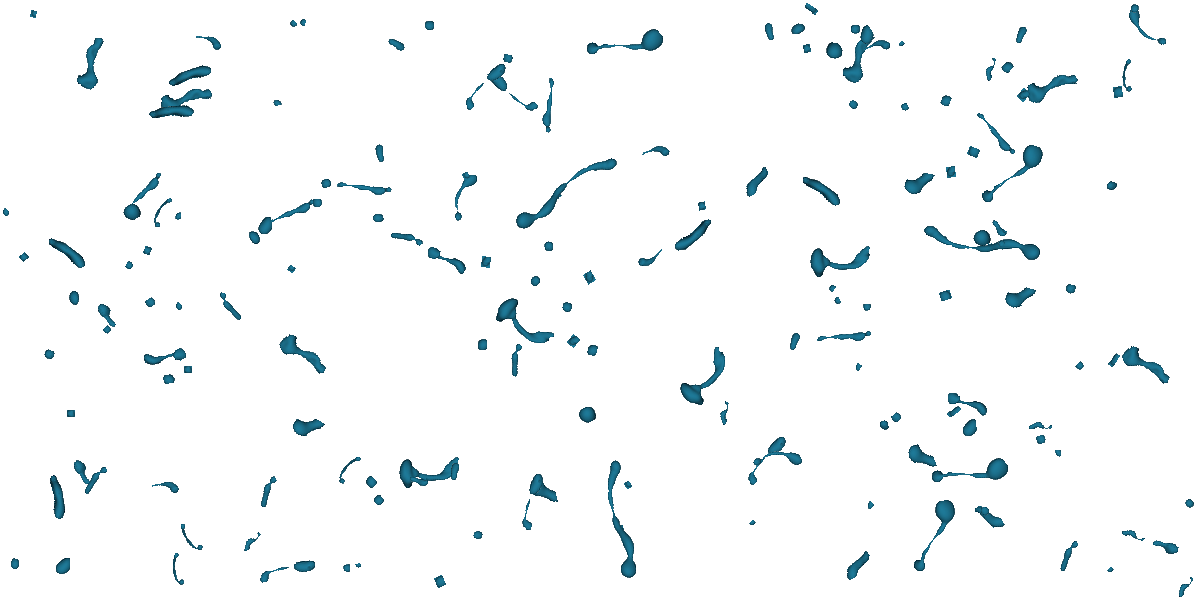Detached ligament: (508, 137, 621, 248), (584, 458, 658, 584), (581, 4, 668, 87), (926, 433, 1013, 515), (978, 134, 1047, 218), (388, 432, 466, 506), (799, 221, 877, 295), (923, 223, 1044, 264), (907, 499, 962, 575), (676, 342, 729, 412), (489, 294, 559, 347), (1020, 61, 1081, 113), (154, 75, 215, 125), (272, 330, 333, 378), (1115, 342, 1176, 388), (746, 438, 804, 485), (459, 60, 509, 113), (1121, 6, 1179, 51), (969, 109, 1021, 159), (486, 70, 541, 117), (742, 433, 789, 488), (120, 167, 166, 222), (262, 193, 319, 235), (147, 89, 196, 136), (840, 29, 878, 88), (34, 473, 80, 521), (140, 336, 188, 377), (167, 55, 213, 97), (801, 168, 842, 213), (47, 230, 87, 275), (76, 36, 107, 93), (256, 557, 317, 584), (518, 472, 545, 533), (496, 342, 536, 381), (386, 218, 425, 258), (450, 174, 480, 226), (814, 325, 874, 350), (248, 474, 287, 512), (288, 409, 327, 446), (1049, 539, 1087, 575), (425, 246, 470, 276), (973, 499, 1007, 537), (904, 439, 938, 476), (737, 166, 775, 199), (674, 219, 713, 251), (838, 550, 876, 582), (173, 520, 205, 557), (332, 450, 364, 486), (1002, 282, 1038, 314), (77, 465, 112, 497), (527, 474, 559, 509), (147, 192, 175, 230), (947, 392, 989, 417), (193, 26, 225, 58), (66, 458, 99, 489), (902, 169, 936, 199), (91, 302, 124, 331), (150, 473, 182, 502), (335, 181, 393, 196), (541, 76, 556, 134), (217, 292, 245, 323), (641, 140, 672, 165), (1150, 534, 1180, 558), (635, 246, 665, 269), (167, 550, 185, 588), (863, 36, 892, 58), (442, 458, 467, 483), (782, 328, 807, 353), (367, 140, 392, 165), (1172, 575, 1198, 599), (1120, 523, 1146, 547), (979, 56, 1002, 83), (238, 530, 265, 553), (757, 19, 781, 43), (1009, 22, 1033, 46), (714, 400, 735, 427), (386, 33, 409, 56), (1119, 57, 1133, 93), (987, 218, 1011, 239), (1027, 417, 1053, 435), (408, 474, 430, 488), (946, 404, 962, 419), (1107, 352, 1121, 368), (803, 2, 819, 16)
drop: (969, 225, 994, 250), (119, 199, 144, 224), (575, 402, 599, 426), (854, 23, 877, 47), (824, 41, 845, 62), (255, 215, 274, 236), (960, 418, 978, 437), (54, 556, 71, 575), (66, 288, 83, 307), (363, 474, 379, 490), (1000, 59, 1015, 75), (566, 333, 581, 349), (1016, 87, 1031, 103), (372, 493, 387, 509), (582, 270, 597, 285), (528, 273, 543, 288), (939, 93, 953, 108), (966, 145, 981, 159), (433, 574, 447, 589), (248, 230, 261, 246), (938, 289, 953, 302), (1105, 180, 1120, 193), (586, 343, 599, 357), (42, 348, 56, 361), (791, 23, 806, 35), (1074, 360, 1087, 373), (101, 324, 114, 337), (890, 411, 903, 424), (144, 296, 157, 309), (1183, 497, 1196, 510), (847, 98, 860, 111), (162, 373, 176, 385), (480, 255, 492, 269), (561, 301, 573, 315), (878, 419, 890, 433), (320, 177, 333, 189), (124, 260, 136, 272), (898, 101, 910, 113), (18, 251, 30, 263), (979, 505, 991, 517), (477, 338, 488, 351), (424, 20, 435, 33), (1035, 434, 1047, 445), (849, 24, 861, 35), (543, 240, 554, 252), (832, 296, 843, 307), (995, 238, 1006, 249), (826, 283, 837, 294), (288, 19, 299, 30), (0, 207, 11, 218), (173, 301, 184, 312), (142, 245, 153, 256), (852, 362, 863, 373), (864, 500, 875, 511), (1113, 86, 1123, 98), (946, 166, 956, 178), (10, 558, 20, 570), (372, 213, 384, 223), (312, 198, 323, 208), (802, 43, 812, 54), (286, 264, 297, 274), (1065, 284, 1076, 294), (1130, 3, 1140, 14), (862, 303, 872, 313), (341, 563, 351, 573), (697, 201, 707, 211), (461, 171, 471, 181), (623, 480, 633, 490), (473, 530, 483, 540), (298, 18, 307, 28), (503, 54, 513, 63), (66, 409, 76, 418), (183, 365, 193, 374), (1106, 566, 1115, 575), (748, 519, 757, 528), (897, 40, 906, 49), (174, 211, 182, 221), (1054, 449, 1062, 459), (354, 562, 362, 570), (273, 99, 282, 106), (30, 10, 37, 18)
